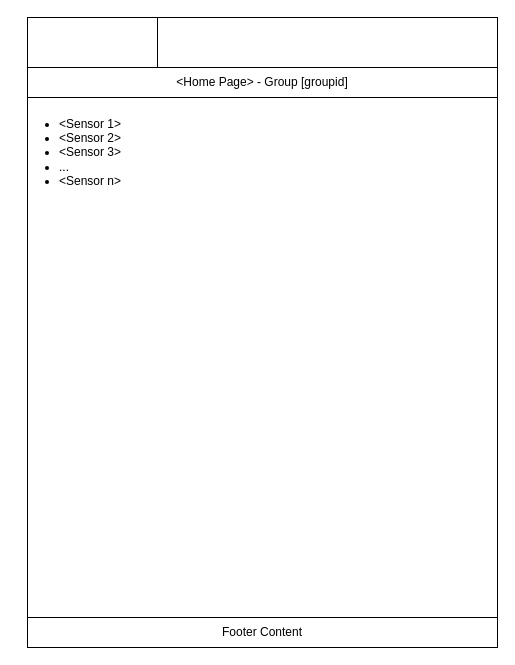
Some shapes in this 515 by 665 pixel diagram are drawn without their labels. The centre of each missing label's shape, as x and y in pixels:
"<Senslify>" belongs at (92,42).
"Displaying Sensors for Group [groupid]" belongs at (327,42).
